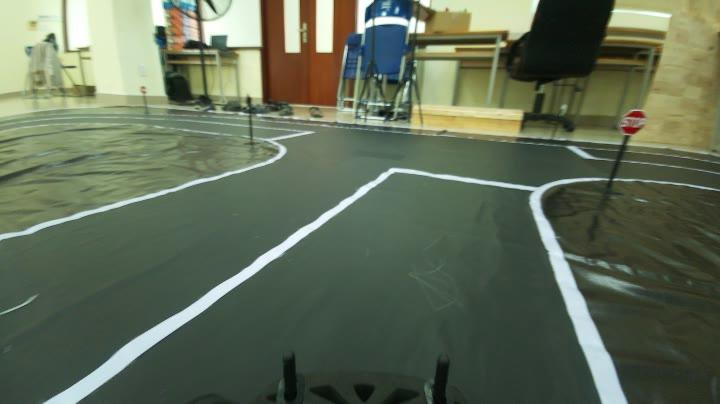stop: (618, 102, 650, 140)
